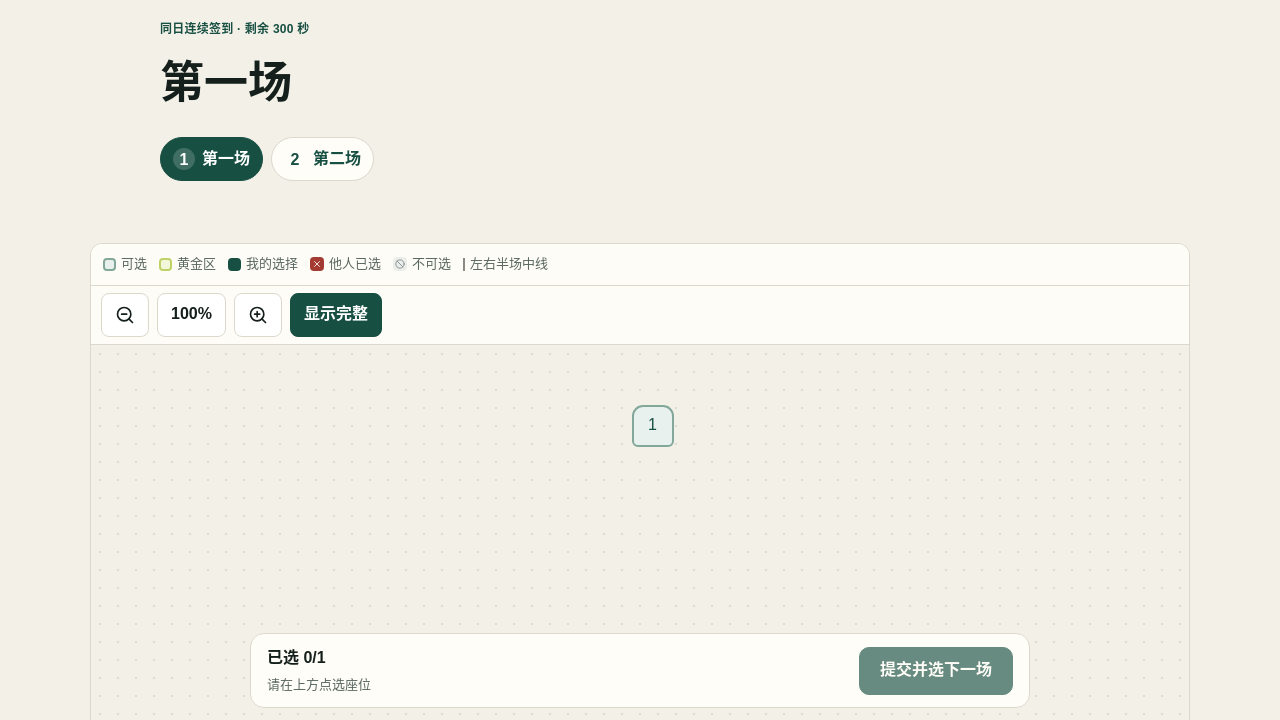
Test case: ConsecutiveSeatFlow › preserves the current step selection and unlocks submit after a network failure
Click the button named "A排1座：可选" at (652, 426), box [632,404,674,446]
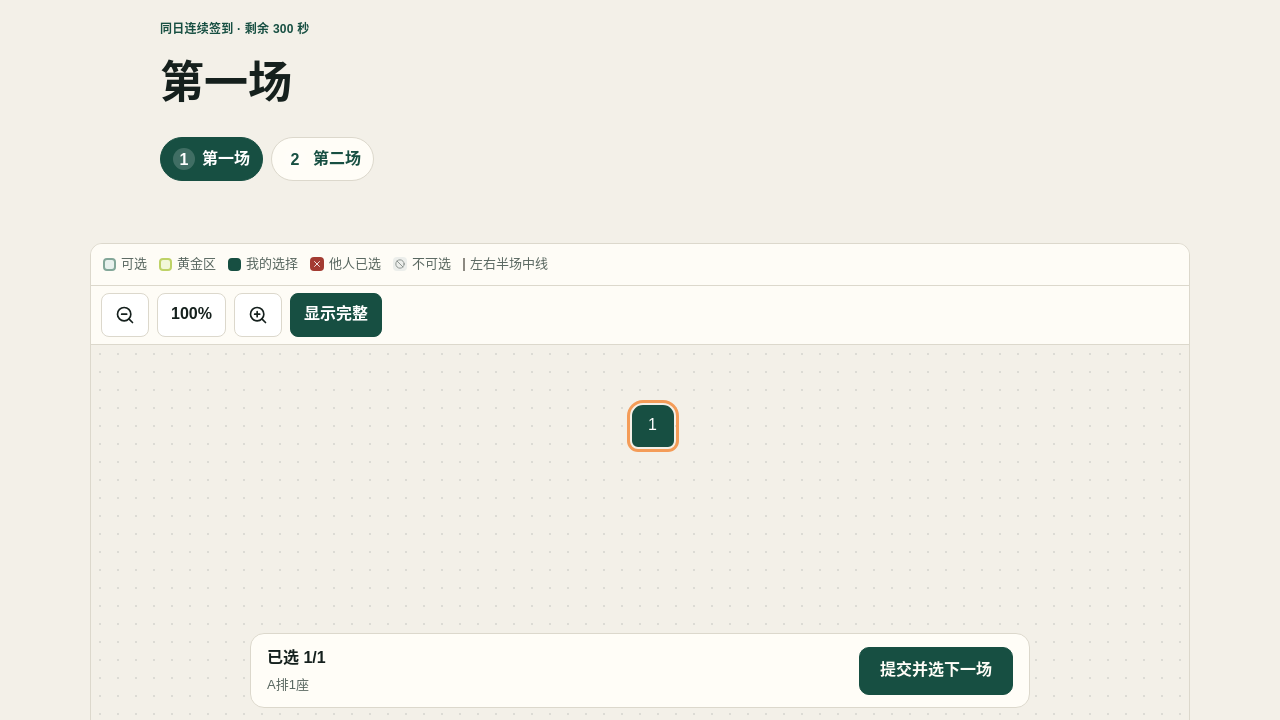
Click the button "提交并选下一场" at (936, 670), box [859,646,1013,694]
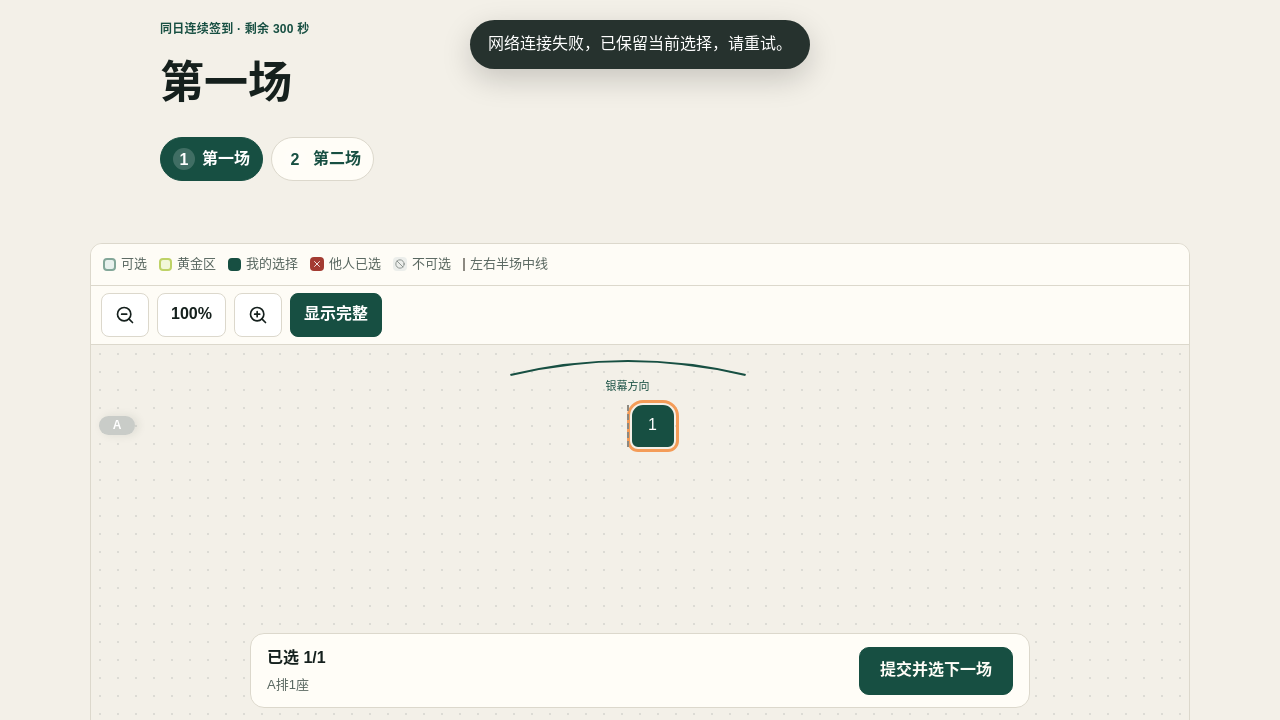
Expected: the text "已选 1/1" is shown, [267,649,326,666]
Expected: the button "提交并选下一场" is enabled, [859,646,1013,694]
Expected: the message shows "已保留当前选择", [488,35,792,52]
